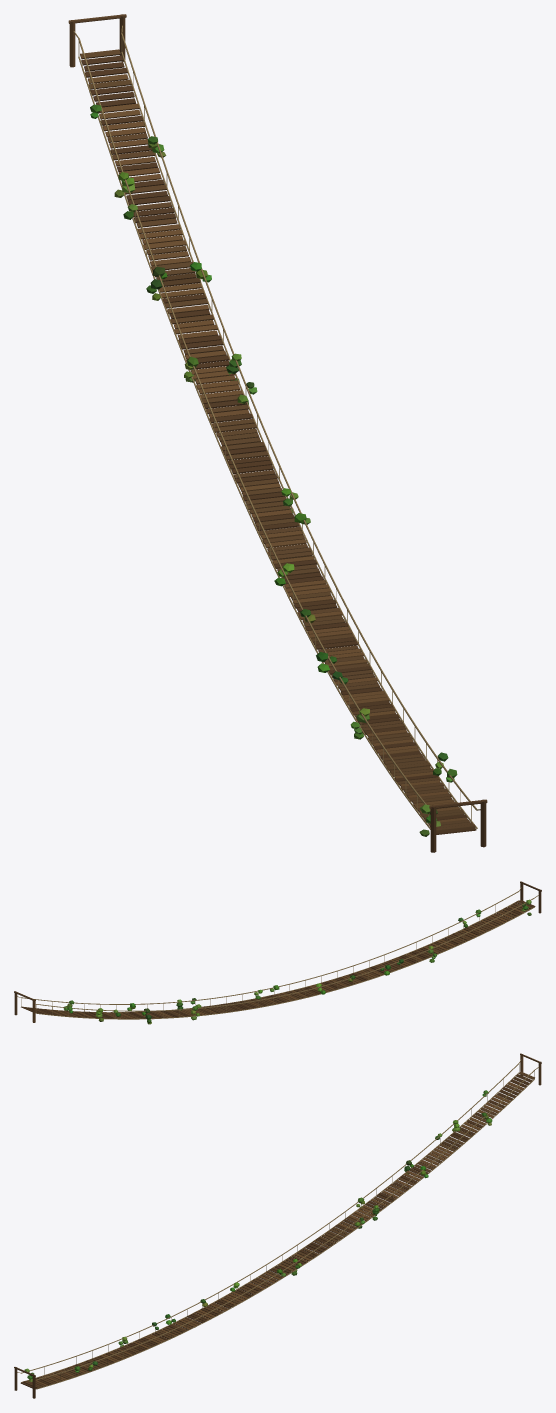
Rendered from SM_Bridge_02_03.fbx.
3 views of the same model, one above another, from view 1: azimuth 30°, elevation 25°; view 2: azimuth 150°, elevation 25°; view 3: azimuth 330°, elevation 25° (orthographic). The views are drawn at different scales.
Visible parts, largest first — view 1: SM_Bridge_02_03; view 2: SM_Bridge_02_03; view 3: SM_Bridge_02_03.
Boxes of the visible parts, <box> form: SM_Bridge_02_03: <box>68,14,487,852</box>; SM_Bridge_02_03: <box>14,881,541,1024</box>; SM_Bridge_02_03: <box>14,1053,541,1398</box>.
Size of the model in its own units: 23.47 by 15.51 by 75.3.
